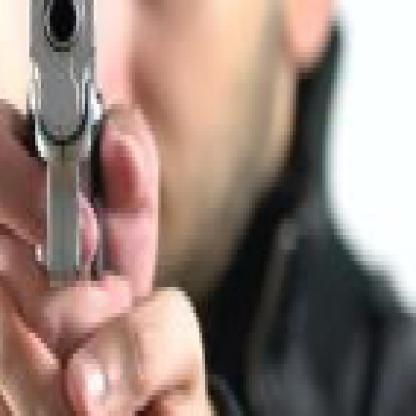gun: (26, 0, 118, 297)
